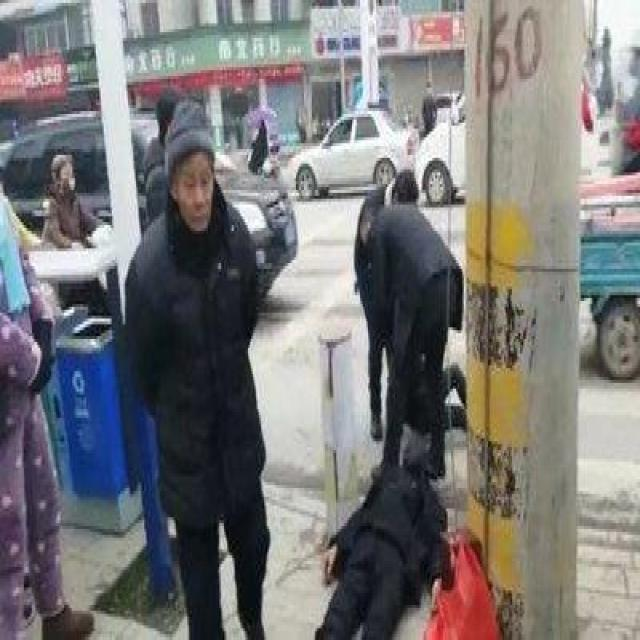fall: (286, 424, 464, 637)
nonfall: (120, 93, 283, 640), (0, 149, 88, 640), (353, 188, 464, 463)
